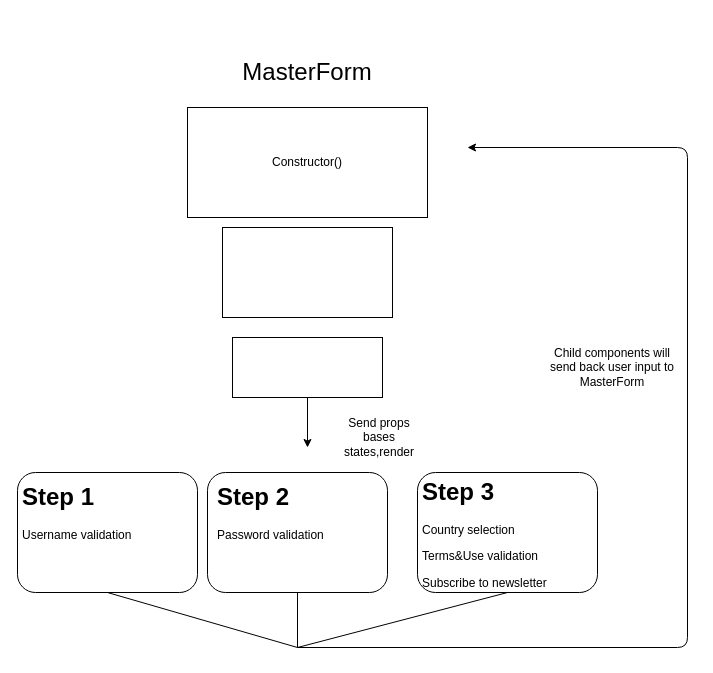
The diagram is 713 pixels wide and 673 high, and some of its shapes have lost their labels. Each missing label, with the centre of its shape:
"Render()" belongs at pixel 307 367.
"setState()" belongs at pixel 307 272.
